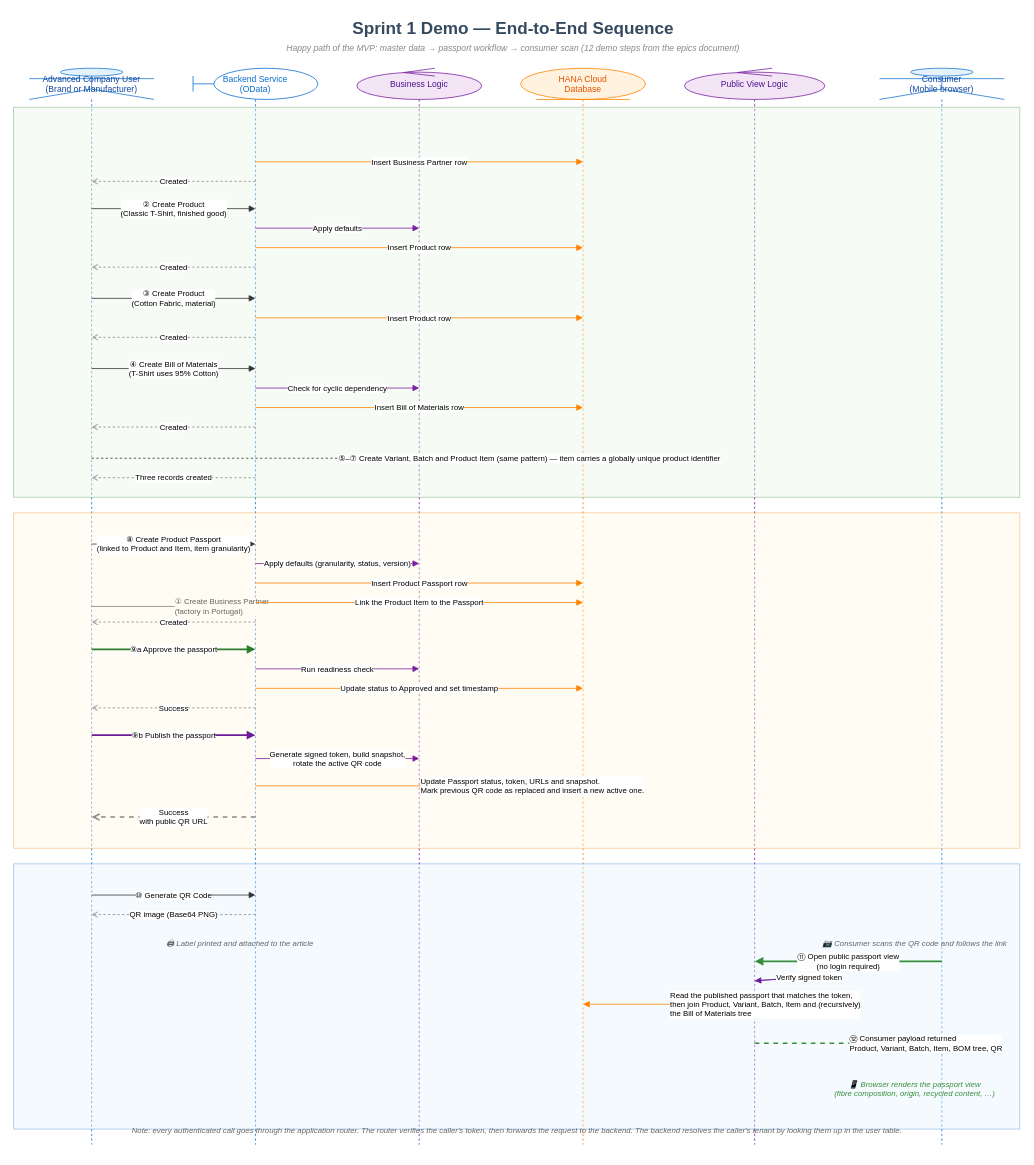
Some shapes in this 1034 by 1165 pixel diagram are drawn without their labels. Each missing label, with the centre of its shape:
Phase 1 — Create master data (demo steps 2 to 7): point (516, 301)
Phase 2 — Product passport workflow (demo steps 8 and 9): point (516, 680)
Phase 3 — Consumer path (demo steps 10 to 12): point (516, 996)
